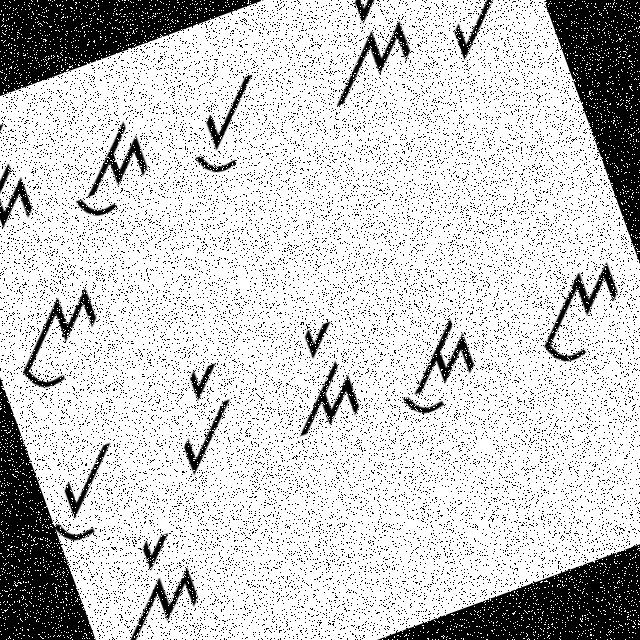dar: (248, 308, 378, 450), (0, 117, 51, 250)
daw: (373, 298, 498, 428), (49, 107, 165, 229)
nar: (286, 0, 429, 119), (84, 520, 219, 639)
naw: (502, 242, 639, 391), (0, 260, 136, 406)
par: (142, 351, 264, 492), (423, 0, 532, 69)
paw: (172, 59, 288, 183), (31, 430, 146, 548)
